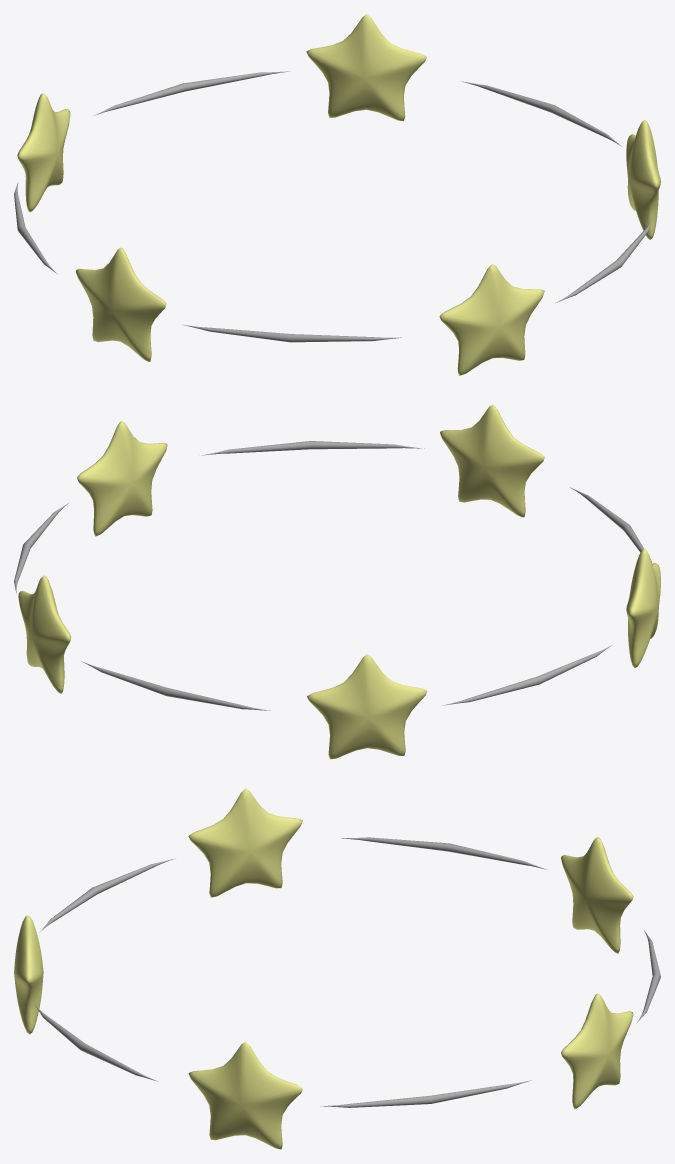
File: StarSurround.fbx
3 renders of one model, top to bottom at view 1: azimuth 30°, elevation 25°; view 2: azimuth 150°, elevation 25°; view 3: azimuth 270°, elevation 25°, orthographic.
Visible parts, largest first — view 1: Star2, Star, Star4, Star3, Star1, Line, Line3, Line2, Line1, Line4; view 2: Star3, Star, Star1, Star2, Star4, Line1, Line3, Line4, Line2, Line; view 3: Star4, Star1, Star3, Star2, Star, Line2, Line4, Line, Line1, Line3.
Boxes of the visible parts, x1=… form: Star2: x1=306, y1=14, x2=426, y2=121; Star: x1=439, y1=264, x2=544, y2=375; Star4: x1=76, y1=247, x2=166, y2=361; Star3: x1=17, y1=93, x2=70, y2=212; Star1: x1=626, y1=120, x2=660, y2=239; Line: x1=182, y1=324, x2=401, y2=342; Line3: x1=94, y1=71, x2=289, y2=115; Line2: x1=461, y1=81, x2=621, y2=146; Line1: x1=555, y1=218, x2=652, y2=303; Line4: x1=14, y1=182, x2=56, y2=273; Star3: x1=307, y1=654, x2=427, y2=759; Star: x1=440, y1=404, x2=544, y2=517; Star1: x1=77, y1=421, x2=167, y2=536; Star2: x1=18, y1=575, x2=71, y2=693; Star4: x1=626, y1=548, x2=660, y2=667; Line1: x1=201, y1=441, x2=424, y2=455; Line3: x1=81, y1=661, x2=270, y2=710; Line4: x1=442, y1=645, x2=611, y2=705; Line2: x1=14, y1=503, x2=68, y2=593; Line: x1=570, y1=487, x2=651, y2=562; Star4: x1=188, y1=788, x2=302, y2=897; Star1: x1=188, y1=1042, x2=302, y2=1149; Star3: x1=561, y1=837, x2=633, y2=953; Star2: x1=561, y1=993, x2=633, y2=1109; Star: x1=14, y1=915, x2=43, y2=1034; Line2: x1=320, y1=1080, x2=531, y2=1107; Line4: x1=341, y1=837, x2=547, y2=869; Line: x1=39, y1=858, x2=175, y2=932; Line1: x1=35, y1=1005, x2=157, y2=1081; Line3: x1=637, y1=930, x2=660, y2=1022.
Bounding box in the file's own units: 12.24 × 2.19 × 12.36.
